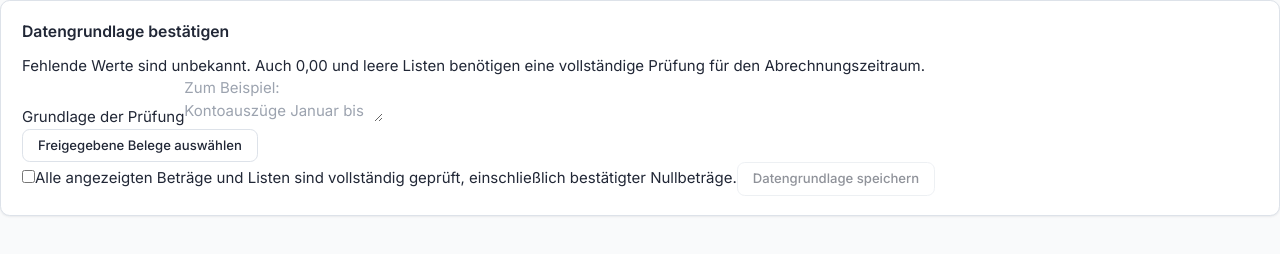
Scenario: keeps review text after stale derived input and explains recovery
Replace the text in the text box with "Retain review note" at (284, 100), box [184,77,383,122]
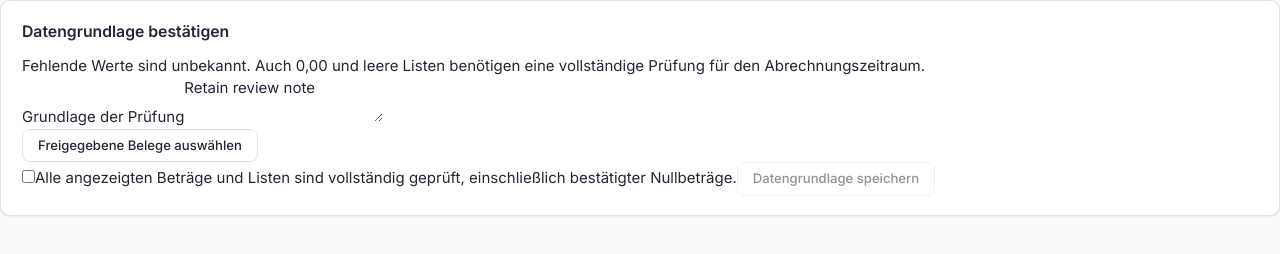
Click the checkbox at (28, 177), box [22,170,35,183]
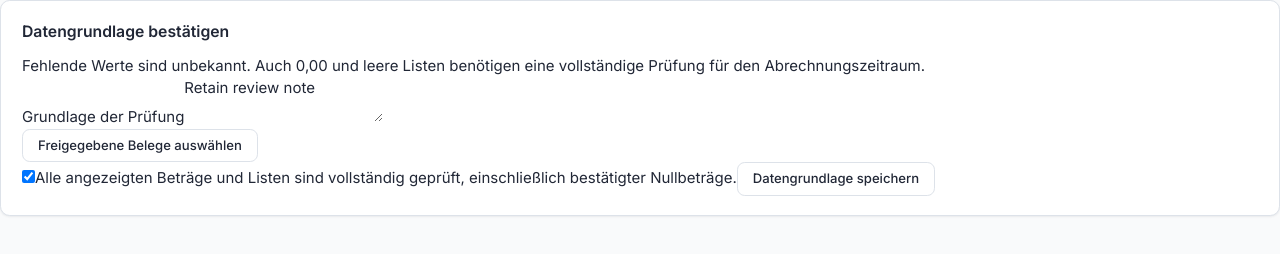
Click the button "Datengrundlage speichern" at (836, 179), box [737,162,935,196]
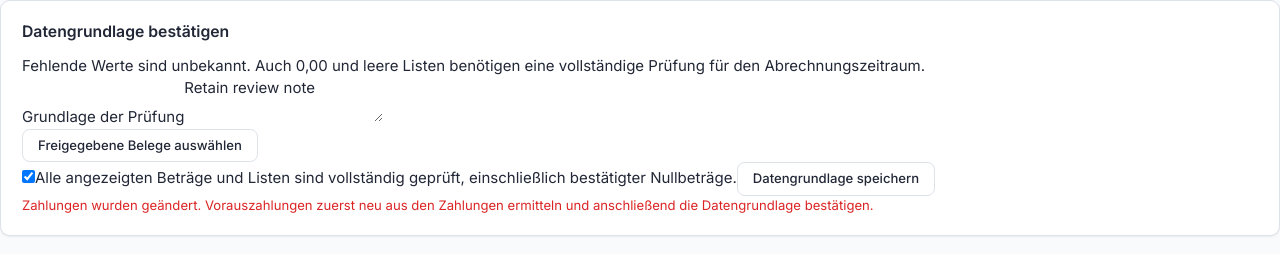
Expected: the message shows "zuerst neu aus den Zahlungen ermitteln", [22,197,874,213]
